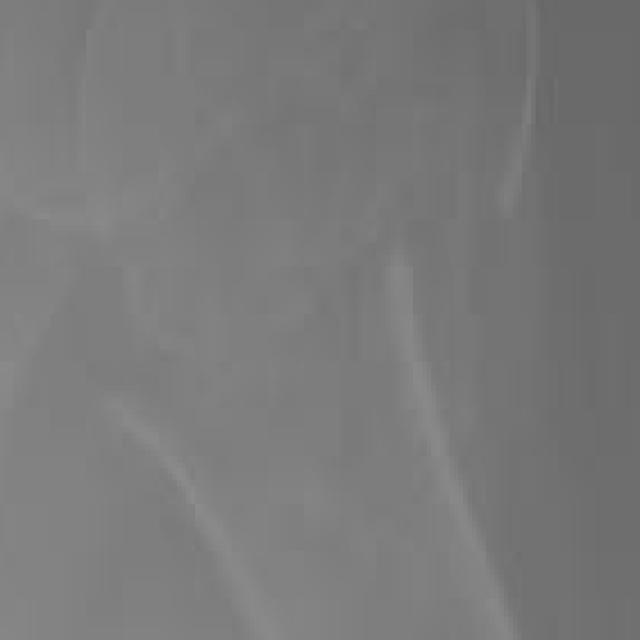fracture: (0, 0, 638, 640)
